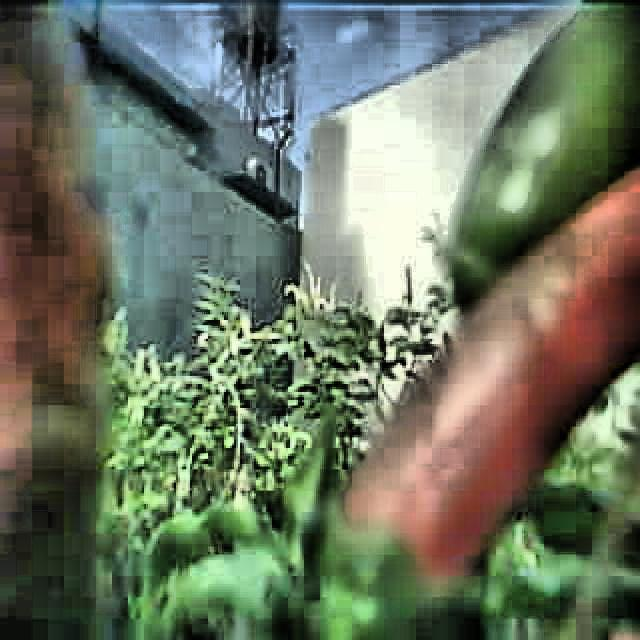Cabai: (393, 164, 634, 640)
